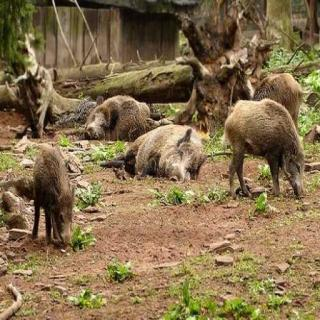Pig: (115, 130, 250, 217), (214, 89, 320, 199), (8, 125, 86, 269), (72, 92, 154, 140)
